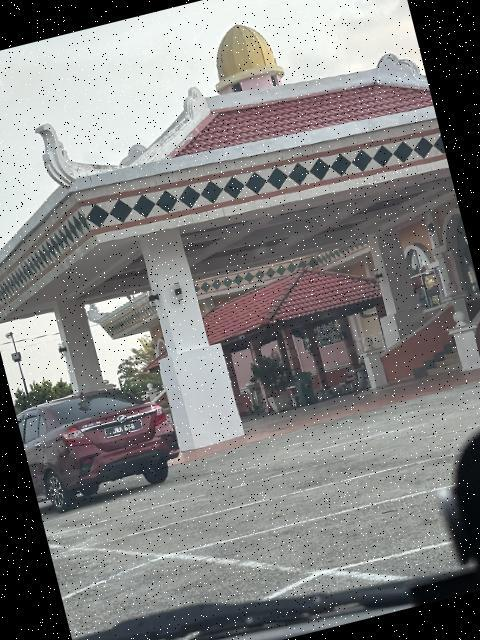License_Plate: (103, 417, 147, 442)
car: (13, 362, 189, 520)
